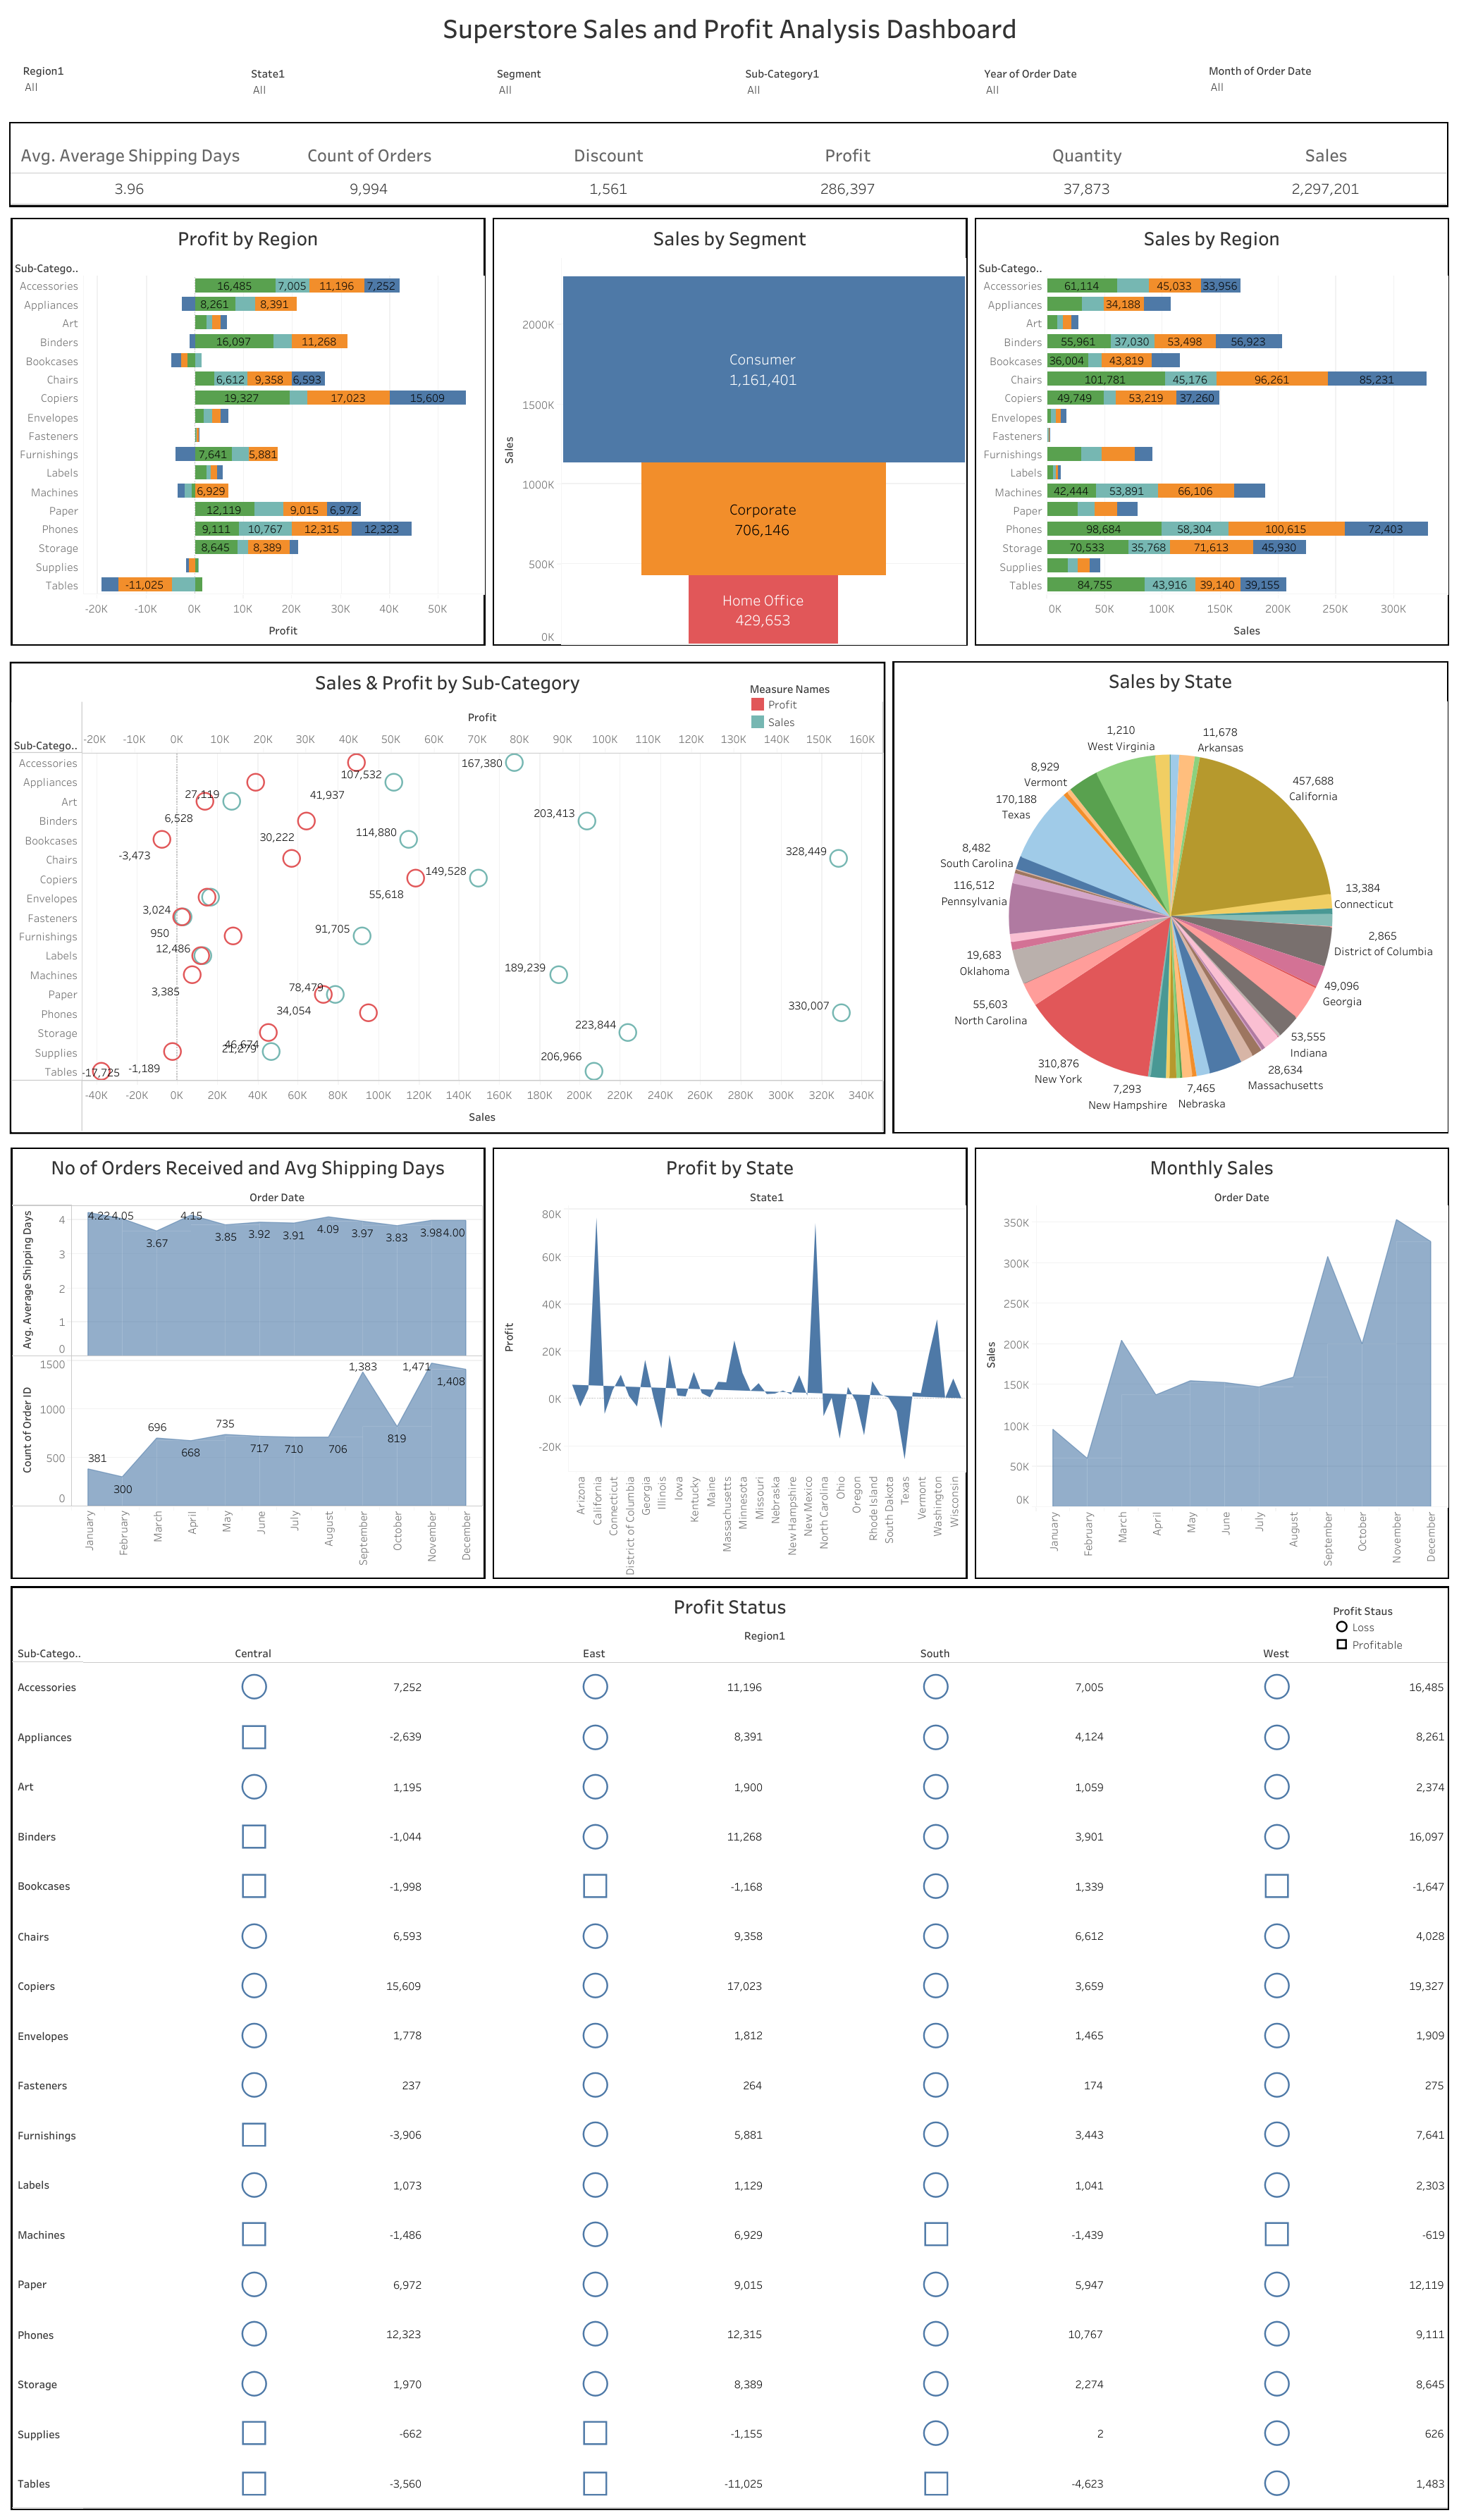

What the dashboard file says about the page in this screenshot:
{"tool":"tableau","page":{"name":"Superstore SP Analysis Dashboard","canvas":[1000,1000],"units":"permille","ordinal":0},"visuals":[{"type":"title","box":[4.8,2.8,990.3,15.7]},{"type":"filter","title":"Sales by Region","param":"[federated.16sr63y1hi1gex11o6ow00b5w3xm].[none:Region:nk]","box":[15.7,24.5,120.7,20.6]},{"type":"filter","title":"Monthly Sales","param":"[federated.16sr63y1hi1gex11o6ow00b5w3xm].[mn:Order Date:ok]","box":[828,24.5,115.9,18.5]},{"type":"filter","title":"Sales by State","param":"[federated.16sr63y1hi1gex11o6ow00b5w3xm].[none:State:nk]","box":[172,25.5,118.3,16.8]},{"type":"filter","title":"Sales by Segment","param":"[federated.16sr63y1hi1gex11o6ow00b5w3xm].[none:Segment:nk]","box":[340.4,25.5,124.3,16.4]},{"type":"filter","title":"Sales and Profit by Sub-category","param":"[federated.16sr63y1hi1gex11o6ow00b5w3xm].[none:Sub-Category:nk]","box":[510.6,25.5,105.6,17.1]},{"type":"filter","title":"Profit by state","param":"[federated.16sr63y1hi1gex11o6ow00b5w3xm].[yr:Order Date:ok]","box":[674.1,25.5,105.6,16.8]},{"type":"worksheet","title":"Cards","mark":"Automatic","box":[6,48.2,986.1,33.9]},{"type":"worksheet","title":"Profit by Region","mark":"Automatic","rows":["Sub-Category"],"cols":["Profit"],"box":[4.8,84.9,330.1,172.7]},{"type":"worksheet","title":"Sales by Segment","mark":"Bar","rows":["Sales"],"box":[334.9,84.9,330.1,172.7]},{"type":"worksheet","title":"Sales by Region","mark":"Automatic","rows":["Sub-Category"],"cols":["Sales"],"box":[665.1,84.9,330.1,172.7]},{"type":"worksheet","title":"Sales by State","mark":"Pie","box":[611.4,262.1,380.8,187.3]},{"type":"worksheet","title":"Sales and Profit by Sub-category","mark":"Shape","rows":["Sub-Category"],"cols":["Sales","Profit"],"box":[6.6,262.5,599.9,187.3]},{"type":"legend","title":"Sales and Profit by Sub-category","param":"[federated.16sr63y1hi1gex11o6ow00b5w3xm].[:Measure Names]","box":[513,269.1,84.5,22.4]},{"type":"worksheet","title":"No of orders received and avg shipping days by month ","mark":"Area","rows":["Calculation_563231439633145857","Order ID"],"cols":["Order Date"],"box":[4.8,453.7,330.1,174.1]},{"type":"worksheet","title":"Profit by state","mark":"Polygon","rows":["Profit"],"cols":["State"],"box":[334.9,453.7,330.1,174.1]},{"type":"worksheet","title":"Monthly Sales","mark":"Area","rows":["Sales"],"cols":["Order Date"],"box":[665.1,453.7,330.1,174.1]},{"type":"worksheet","title":"Profit Status","mark":"Shape","rows":["Sub-Category"],"cols":["Region"],"box":[4.8,627.7,990.3,369.5]}]}

Visuals, with their boxes on the dashboard's canvas, which has no fixed pixel size, in thousandths of its width and height (x1, y1, x2, y2). These are canvas units, not pixel positions in the 1459x2520 screenshot, which may show the page scaled, cropped or inside an application window:
title: (left=5, top=3, right=995, bottom=18)
"Sales by Region" filter: (left=16, top=24, right=136, bottom=45)
"Monthly Sales" filter: (left=828, top=24, right=944, bottom=43)
"Sales by State" filter: (left=172, top=26, right=290, bottom=42)
"Sales by Segment" filter: (left=340, top=26, right=465, bottom=42)
"Sales and Profit by Sub-category" filter: (left=511, top=26, right=616, bottom=43)
"Profit by state" filter: (left=674, top=26, right=780, bottom=42)
"Cards" worksheet: (left=6, top=48, right=992, bottom=82)
"Profit by Region" worksheet: (left=5, top=85, right=335, bottom=258)
"Sales by Segment" worksheet (Bar marks): (left=335, top=85, right=665, bottom=258)
"Sales by Region" worksheet: (left=665, top=85, right=995, bottom=258)
"Sales by State" worksheet (Pie marks): (left=611, top=262, right=992, bottom=449)
"Sales and Profit by Sub-category" worksheet (Shape marks): (left=7, top=262, right=606, bottom=450)
"Sales and Profit by Sub-category" legend: (left=513, top=269, right=598, bottom=292)
"No of orders received and avg shipping days by month " worksheet (Area marks): (left=5, top=454, right=335, bottom=628)
"Profit by state" worksheet (Polygon marks): (left=335, top=454, right=665, bottom=628)
"Monthly Sales" worksheet (Area marks): (left=665, top=454, right=995, bottom=628)
"Profit Status" worksheet (Shape marks): (left=5, top=628, right=995, bottom=997)
